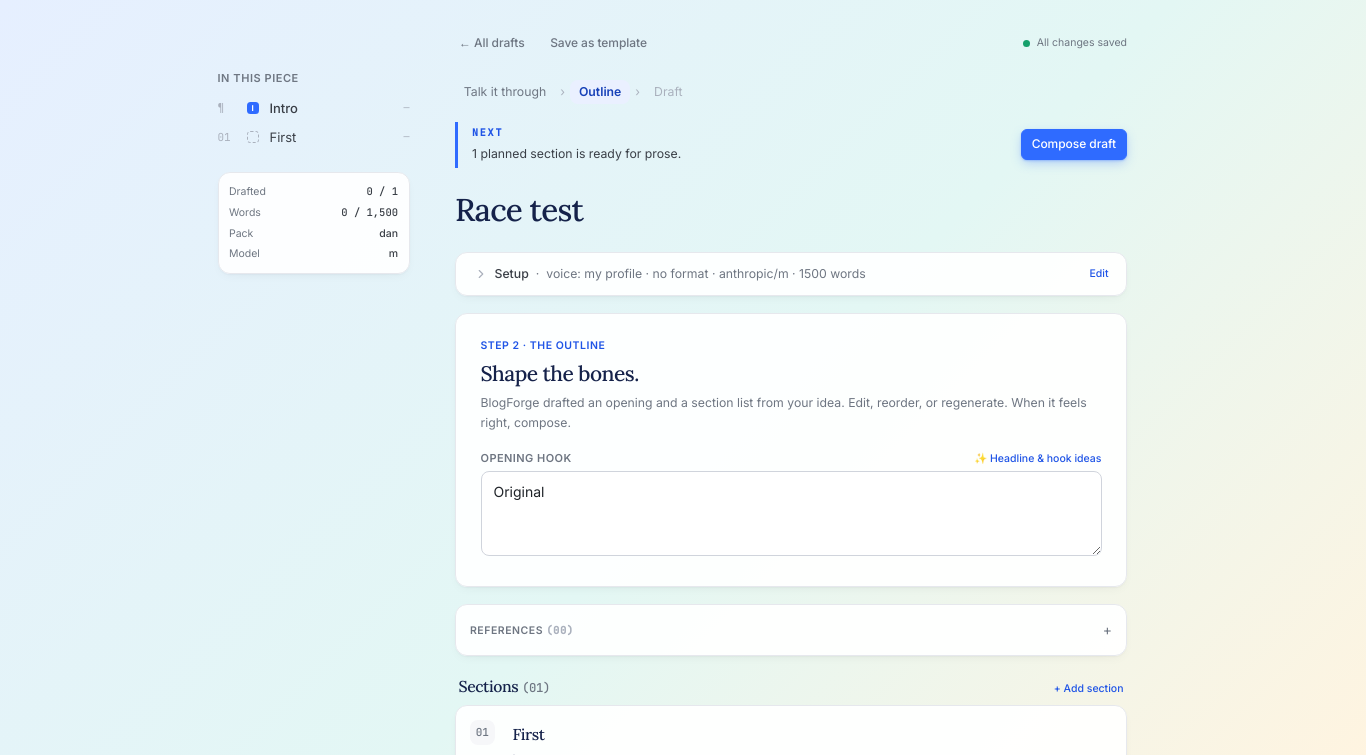
Test: DraftPage › ignores an older save failure after a newer save succeeds
Replace the text in the text box labelled "Opening hook" with "Older edit" at (791, 513), box [480,471,1102,556]
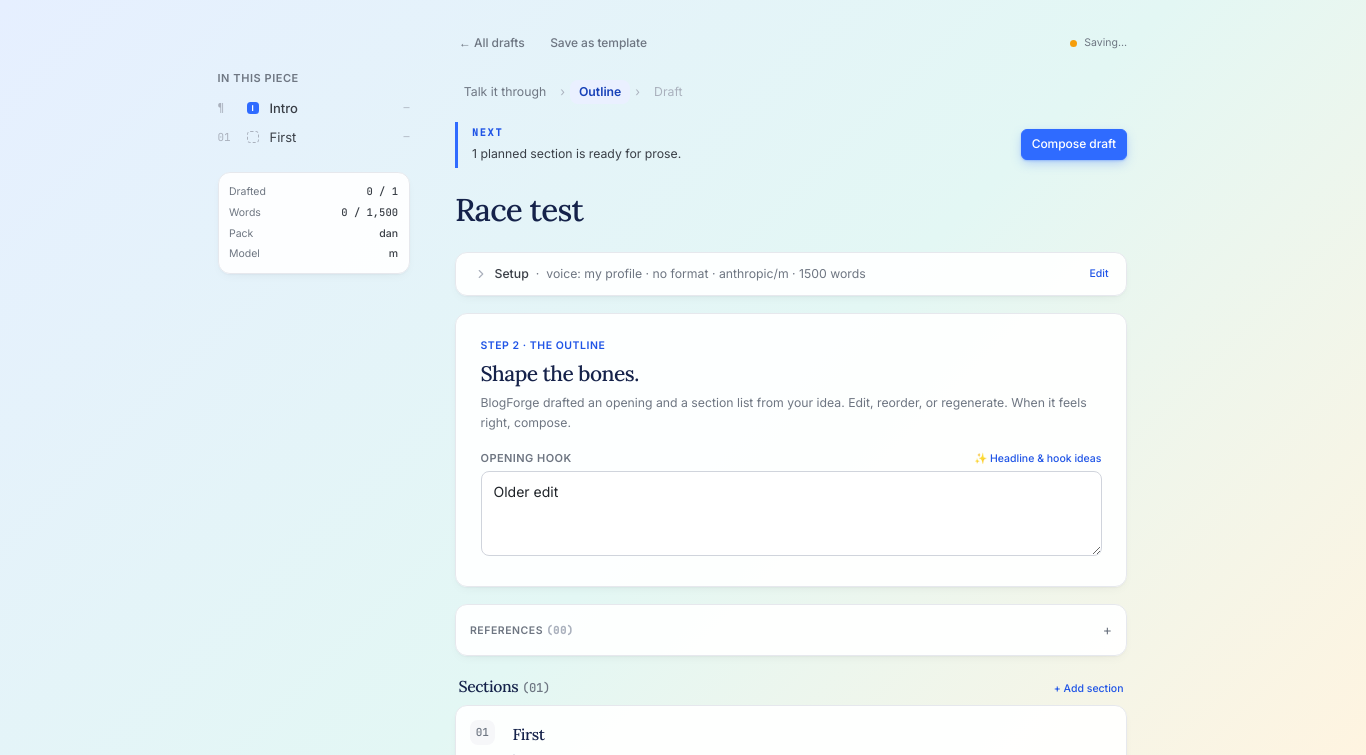
Replace the text in the text box labelled "Opening hook" with "Newest edit" at (791, 513), box [480,471,1102,556]
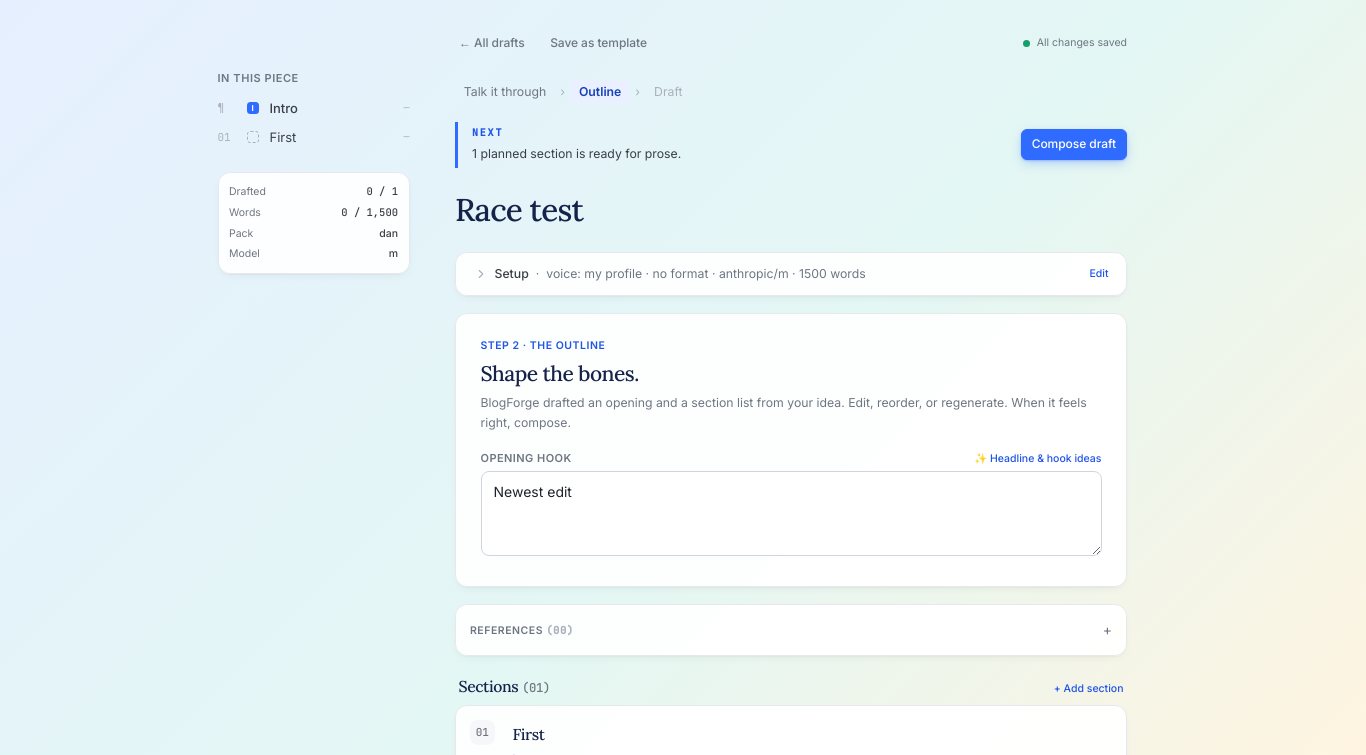
Expected: the text "All changes saved" is shown, [1023,36,1127,50]
